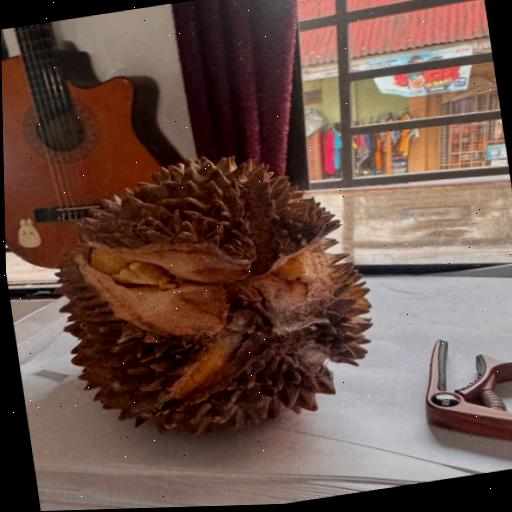rot: (33, 117, 405, 480)
